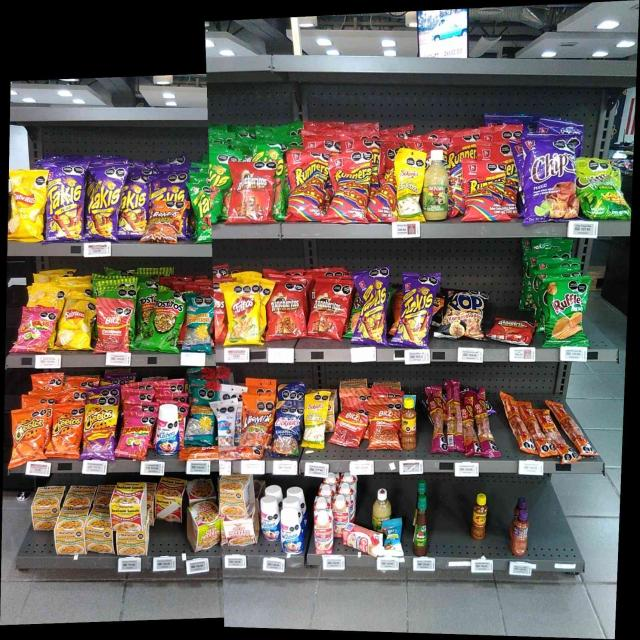bitzAlmendras: (384, 521, 402, 553)
bitzEnchilado90: (98, 298, 127, 352), (369, 400, 399, 448), (336, 406, 364, 447)
bitzEnchilado95: (509, 396, 589, 454), (184, 447, 262, 459)
bitzHabanero: (447, 380, 462, 451), (479, 391, 495, 457), (429, 386, 444, 453), (464, 398, 477, 454)
bokadosCacahuates: (275, 401, 299, 455)
botaneraChilito: (402, 398, 416, 450), (472, 493, 486, 539)
cheetosFlaminHot: (84, 402, 114, 458)
cheetosOriginal: (14, 410, 42, 460), (53, 406, 78, 456)
chipsFuego: (526, 133, 578, 220)
chipsPapatinas: (581, 160, 626, 218)
churrumais: (20, 308, 52, 350), (122, 409, 148, 456)
delPrimoSalsa: (425, 150, 448, 219), (372, 487, 391, 523)
fritosLimon: (227, 282, 259, 343)
leoCacahuates: (218, 401, 235, 445)
leoMix: (244, 393, 272, 445), (150, 202, 178, 242)
maruchanPollo: (220, 476, 254, 514), (57, 510, 85, 553), (87, 510, 111, 551), (33, 486, 56, 528), (117, 531, 148, 555)
maruchanRes: (113, 483, 145, 530)
nestleCarnation: (346, 525, 379, 552), (314, 511, 332, 555), (332, 494, 350, 524)
nestleLechera: (158, 405, 179, 454), (281, 508, 303, 552), (261, 498, 280, 540)
nissinCamaron: (187, 504, 218, 548)
nissinRes: (225, 517, 258, 546)
popKarameladas: (444, 290, 485, 338)
rancheritos: (231, 161, 272, 222), (269, 283, 305, 337), (312, 280, 344, 337), (494, 317, 530, 343)
rufflesQueso: (548, 279, 586, 346)
runners: (288, 148, 324, 219), (332, 154, 366, 222), (465, 161, 504, 220)
sabritasOriginal: (10, 170, 42, 240), (61, 298, 92, 349)
salsaBufalo: (415, 494, 428, 556)
semillasCalabaza: (397, 153, 421, 220), (304, 394, 326, 448)
semillasGirasol: (186, 296, 211, 350), (191, 388, 212, 443)
tajinDulce: (510, 509, 528, 555)
takisFuego: (48, 166, 80, 240), (87, 168, 118, 242), (356, 272, 387, 342), (402, 274, 430, 346), (120, 174, 146, 238)
takisOriginal: (192, 182, 212, 242)
tostitos: (153, 292, 180, 349)
